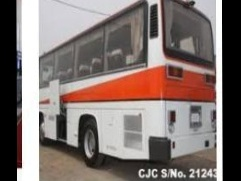bus: (39, 0, 217, 174)
